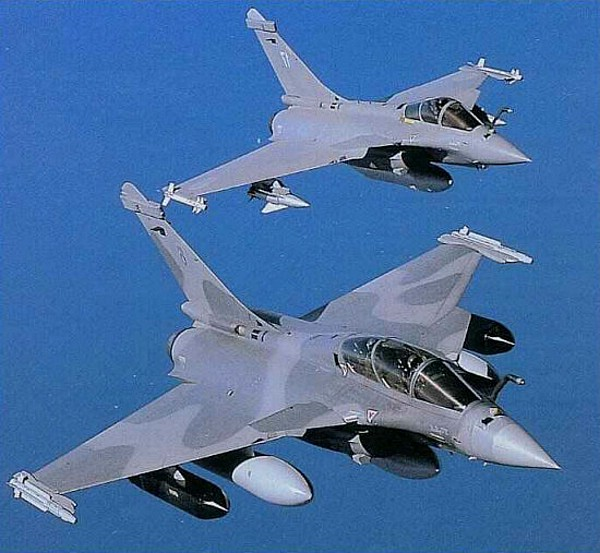airplane: (10, 179, 569, 518), (152, 7, 536, 215)
